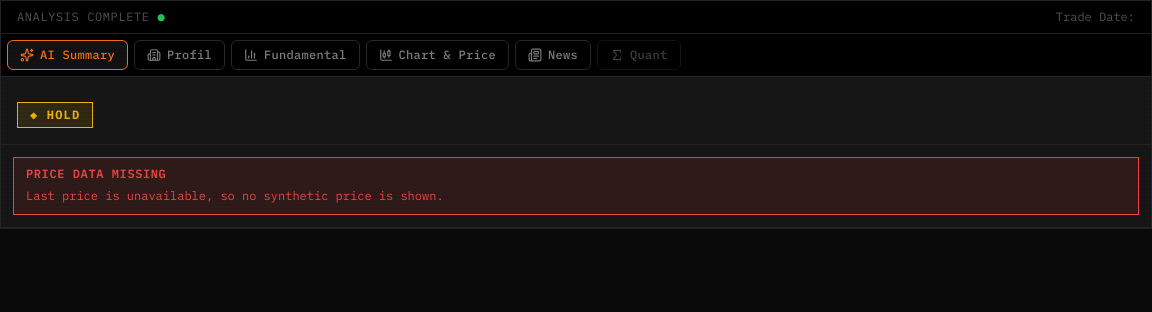
Scenario: ResultCard risk-engine contract › renders Chart & Price empty state when fewer than two valid OHLC points remain
This screenshot has width=1152, height=312.
Click the tab "Chart & Price". click: (437, 55)
box: [366,40,509,70]
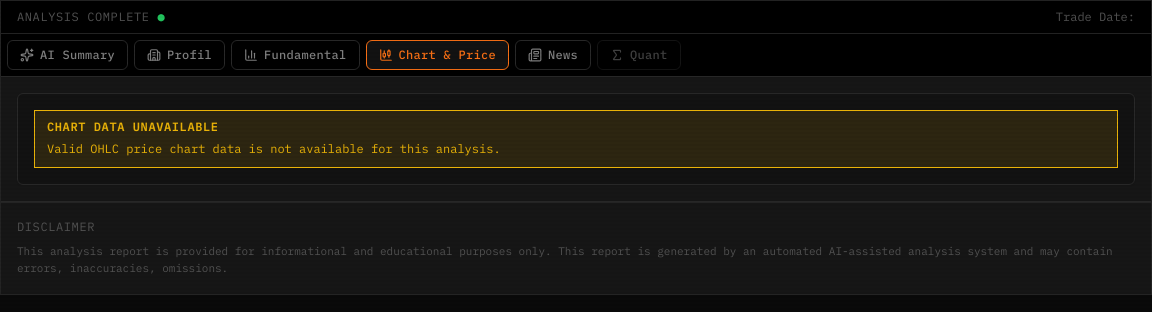
Check: the text "CHART DATA UNAVAILABLE" is shown, box [47,119,219,134]
Check: the text "Valid OHLC price chart data is not available for this analysis." is shown, box [47,141,501,156]
